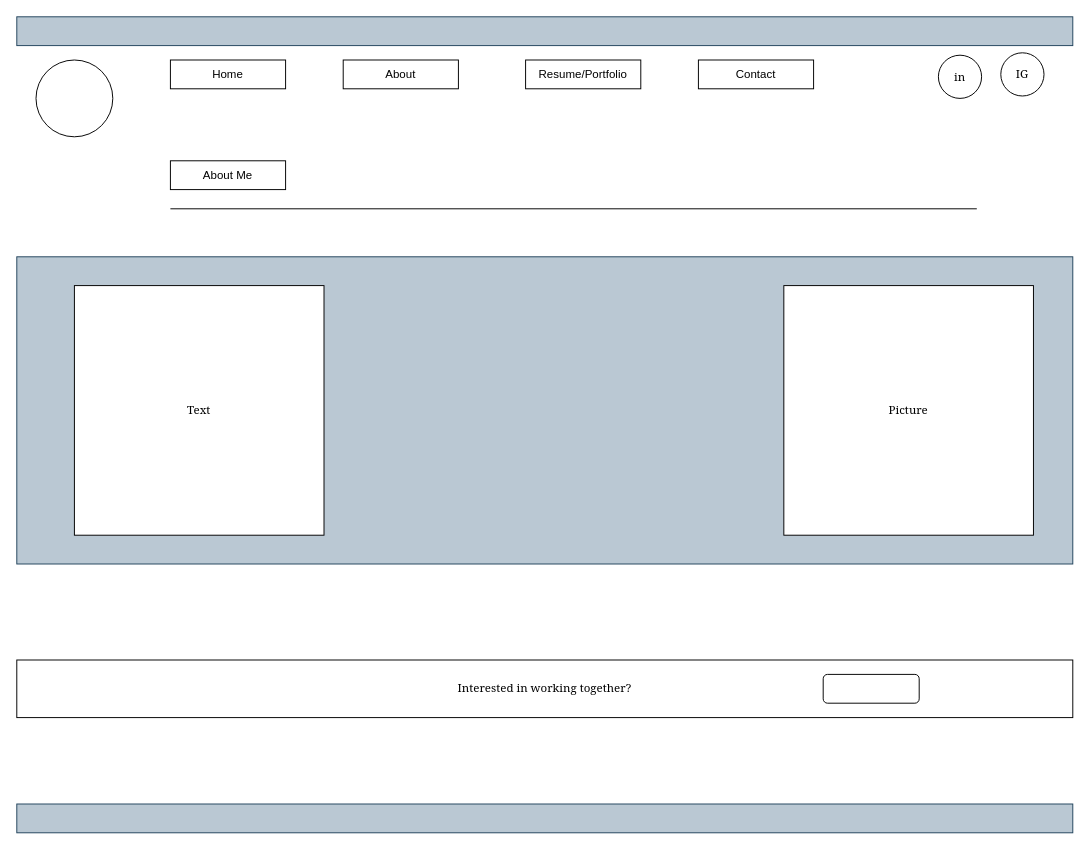
Some shapes in this 1090 by 850 pixel diagram are drawn without their labels. The centre of each missing label's shape, as x and y in pixels:
Contact Me: point (870, 688)
JP: point (74, 98)
